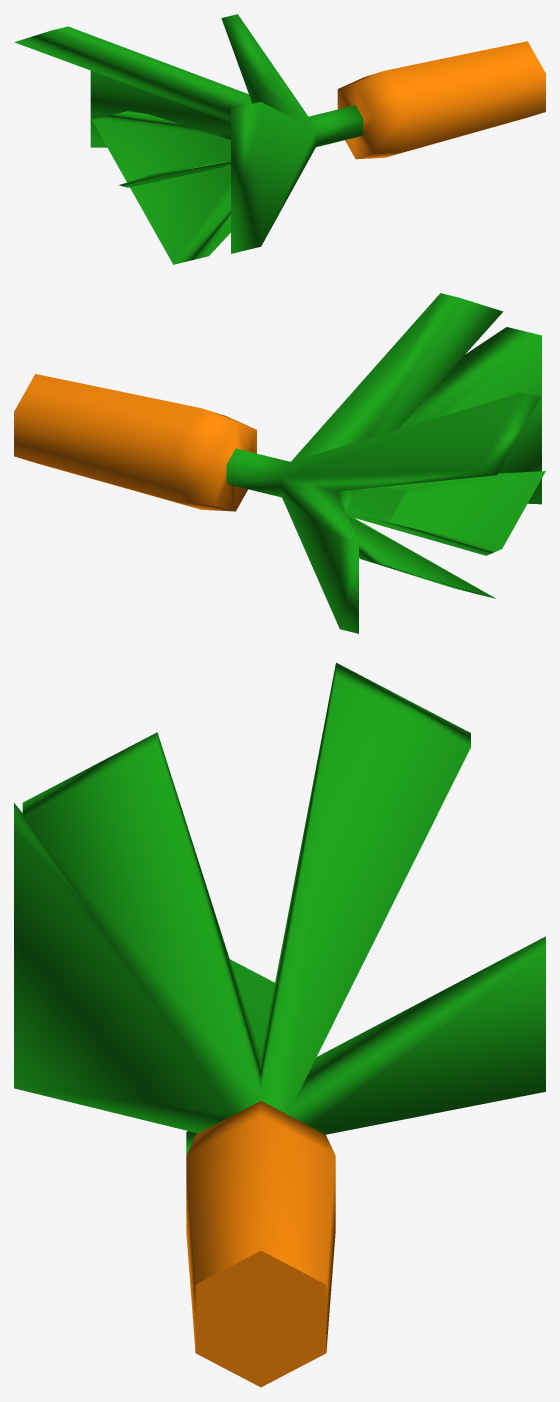
Rendered from carrot-eat1.obj.
3 views of the same model, one above another, from view 1: azimuth 30°, elevation 25°; view 2: azimuth 150°, elevation 25°; view 3: azimuth 270°, elevation 25° (orthographic). The views are drawn at different scales.
Parts seen in each view (by area): view 1: cylinder3_leaf, cylinder3_carrot; view 2: cylinder3_leaf, cylinder3_carrot; view 3: cylinder3_leaf, cylinder3_carrot.
Part boxes in pixels (x1,y1,x2,y2): cylinder3_leaf: [14, 14, 363, 264]; cylinder3_carrot: [337, 41, 545, 159]; cylinder3_leaf: [226, 293, 545, 633]; cylinder3_carrot: [14, 374, 256, 511]; cylinder3_leaf: [14, 662, 545, 1154]; cylinder3_carrot: [186, 1101, 335, 1387].
Bounding box in the file's own units: 3.19 × 1.63 × 1.8.
